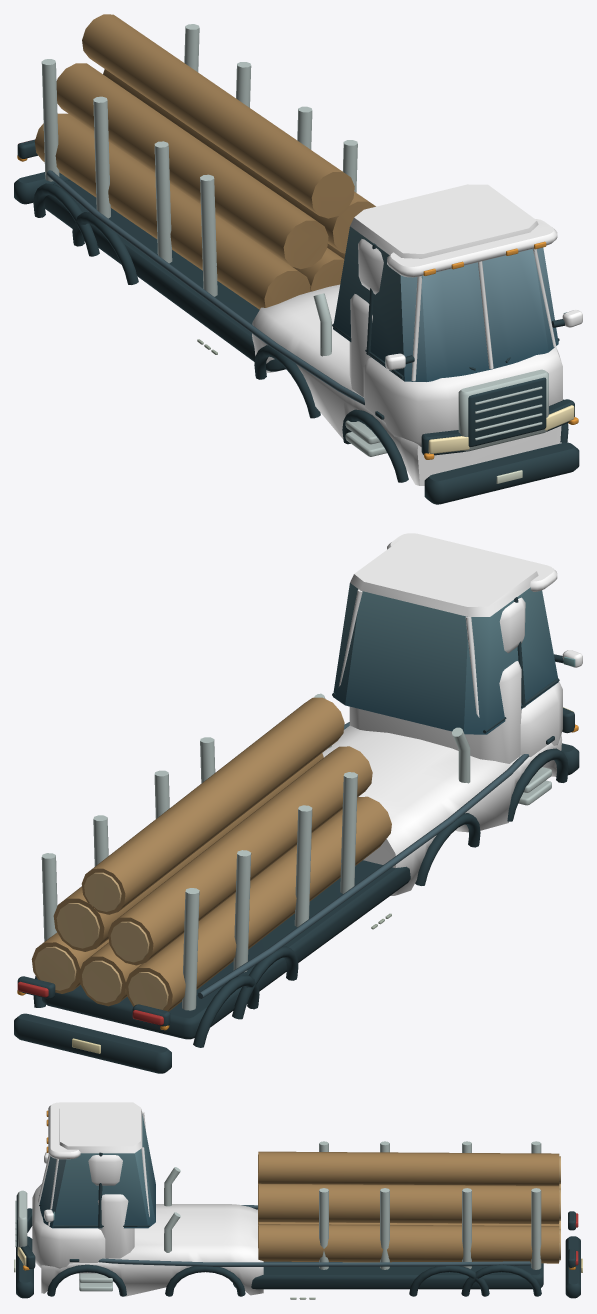
Rendered from timber.glb.
3 views of the same model, one above another, from view 1: azimuth 30°, elevation 25°; view 2: azimuth 150°, elevation 25°; view 3: azimuth 270°, elevation 25° (orthographic). The views are drawn at different scales.
Parts seen in each view (by area): view 1: Chassis, Headlamps; view 2: Chassis; view 3: Chassis.
Part boxes in pixels (left/top/right/bottom): Chassis: left=14, top=14, right=582, bottom=504; Headlamps: left=428, top=405, right=574, bottom=453; Chassis: left=14, top=533, right=582, bottom=1073; Chassis: left=14, top=1102, right=582, bottom=1299.
Bounding box in the file's own units: 2.23 × 2.45 × 8.39.
